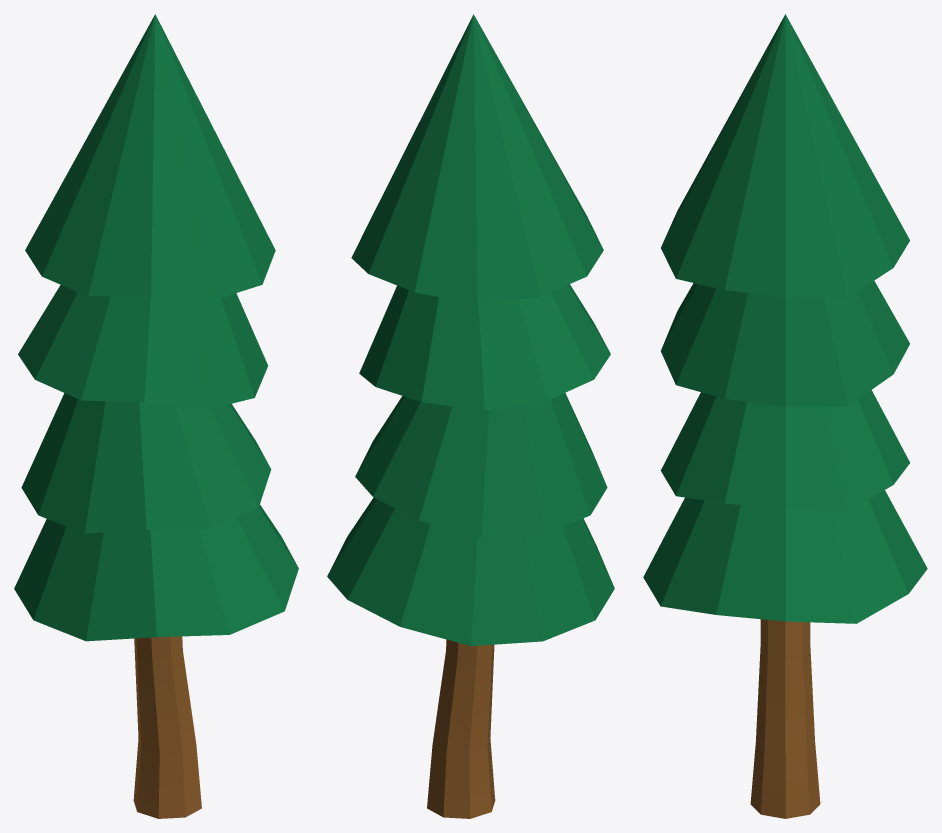
File: Tree 3.fbx
The picture shows the model from 3 angles, left to right: view 1: azimuth 30°, elevation 25°; view 2: azimuth 150°, elevation 25°; view 3: azimuth 270°, elevation 25°; orthographic projection.
Visible parts, largest first — view 1: pCone23; view 2: pCone23; view 3: pCone23.
Part boxes in pixels (left/top/right/bottom): pCone23: left=14, top=14, right=298, bottom=818; pCone23: left=327, top=14, right=614, bottom=818; pCone23: left=643, top=14, right=927, bottom=818.
Size of the model in its own units: 216 by 660 by 217.
